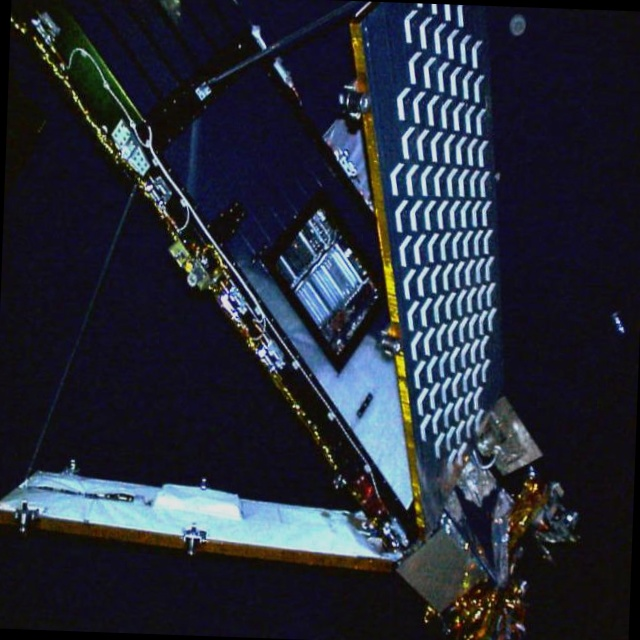satellite: (0, 0, 600, 640)
